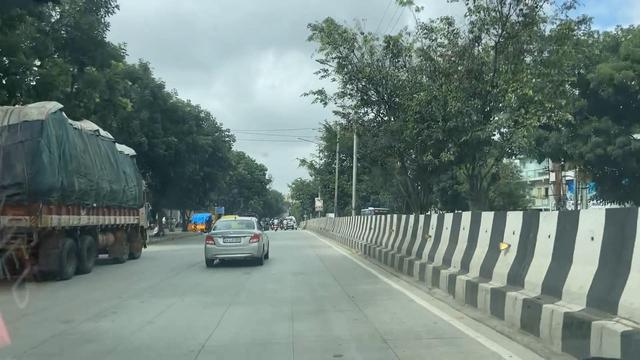HMV: (0, 109, 148, 278)
LMV: (200, 217, 268, 266)
